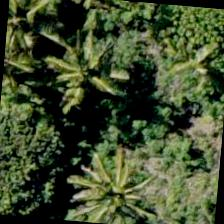Kelapa_Sawit: (64, 141, 162, 223)
